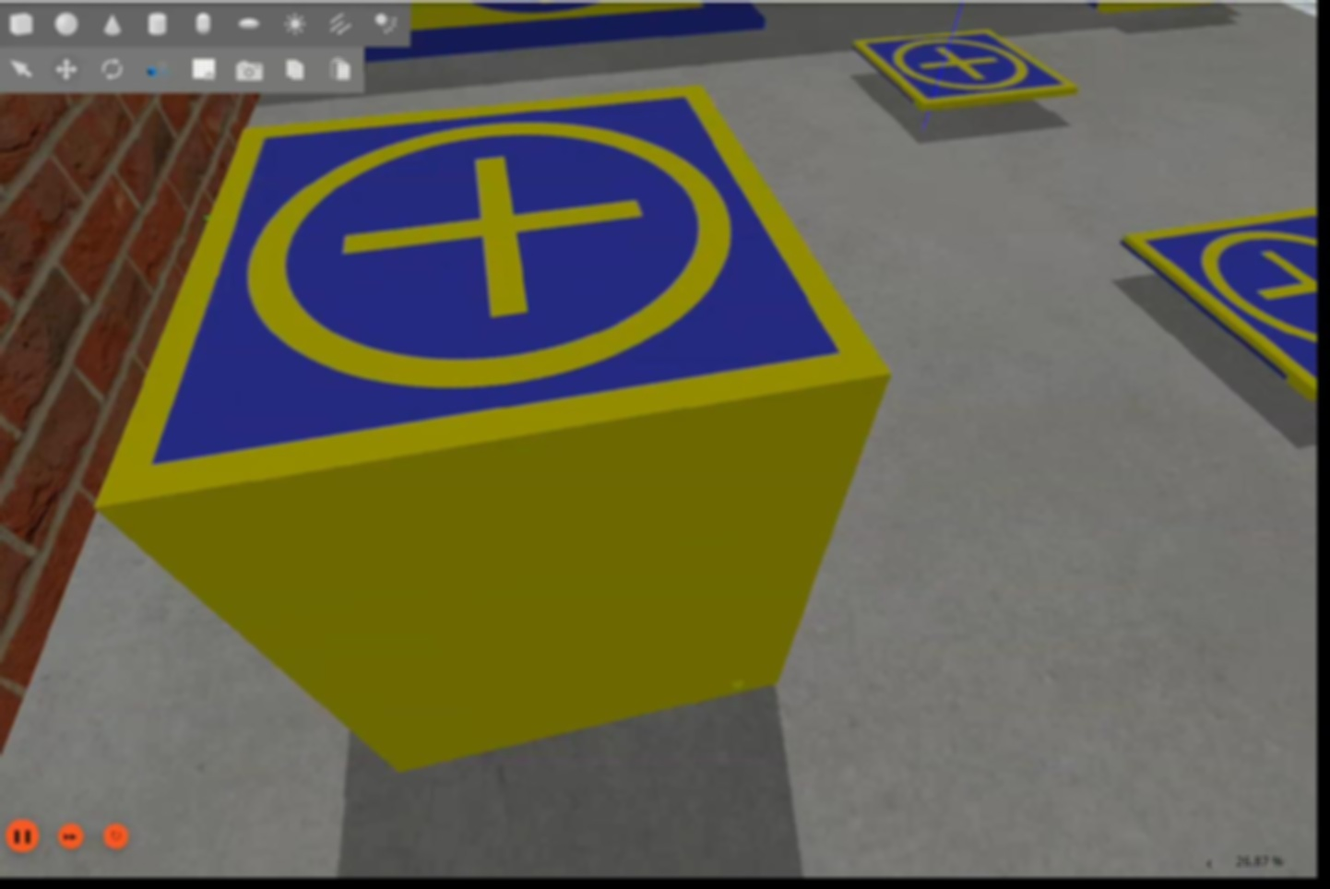small_base: (93, 88, 892, 510), (1120, 196, 1323, 398), (851, 30, 1079, 113)
